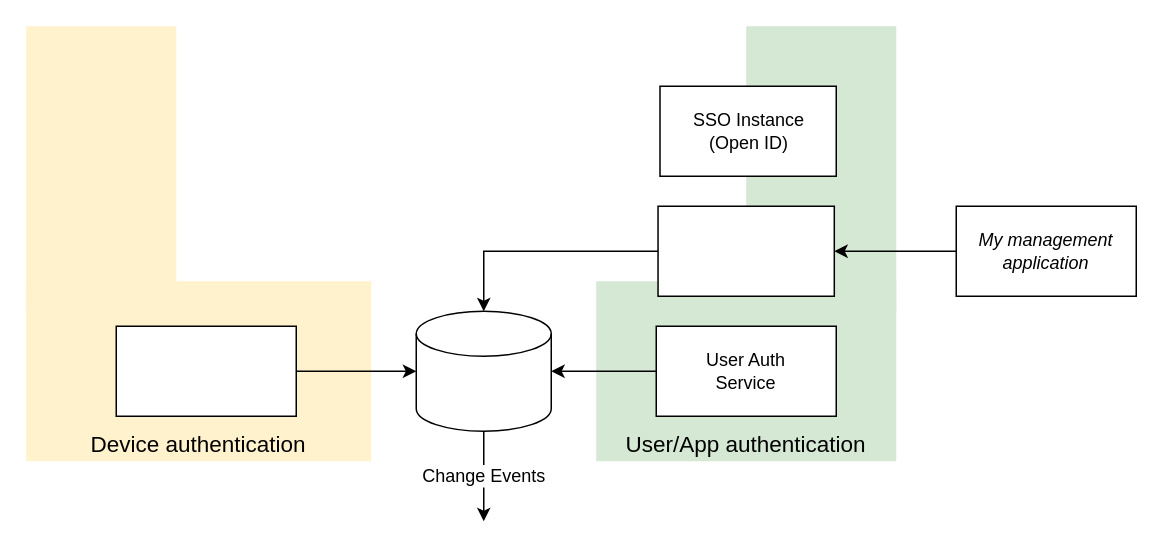
The diagram is 1163 pixels wide and 560 high, and some of its shapes have lost their labels. Each missing label, with the centre of its shape:
"Device Auth Service" goes at point (205, 370).
"Device Management API" goes at point (745, 250).
"Registry" goes at point (483, 370).
